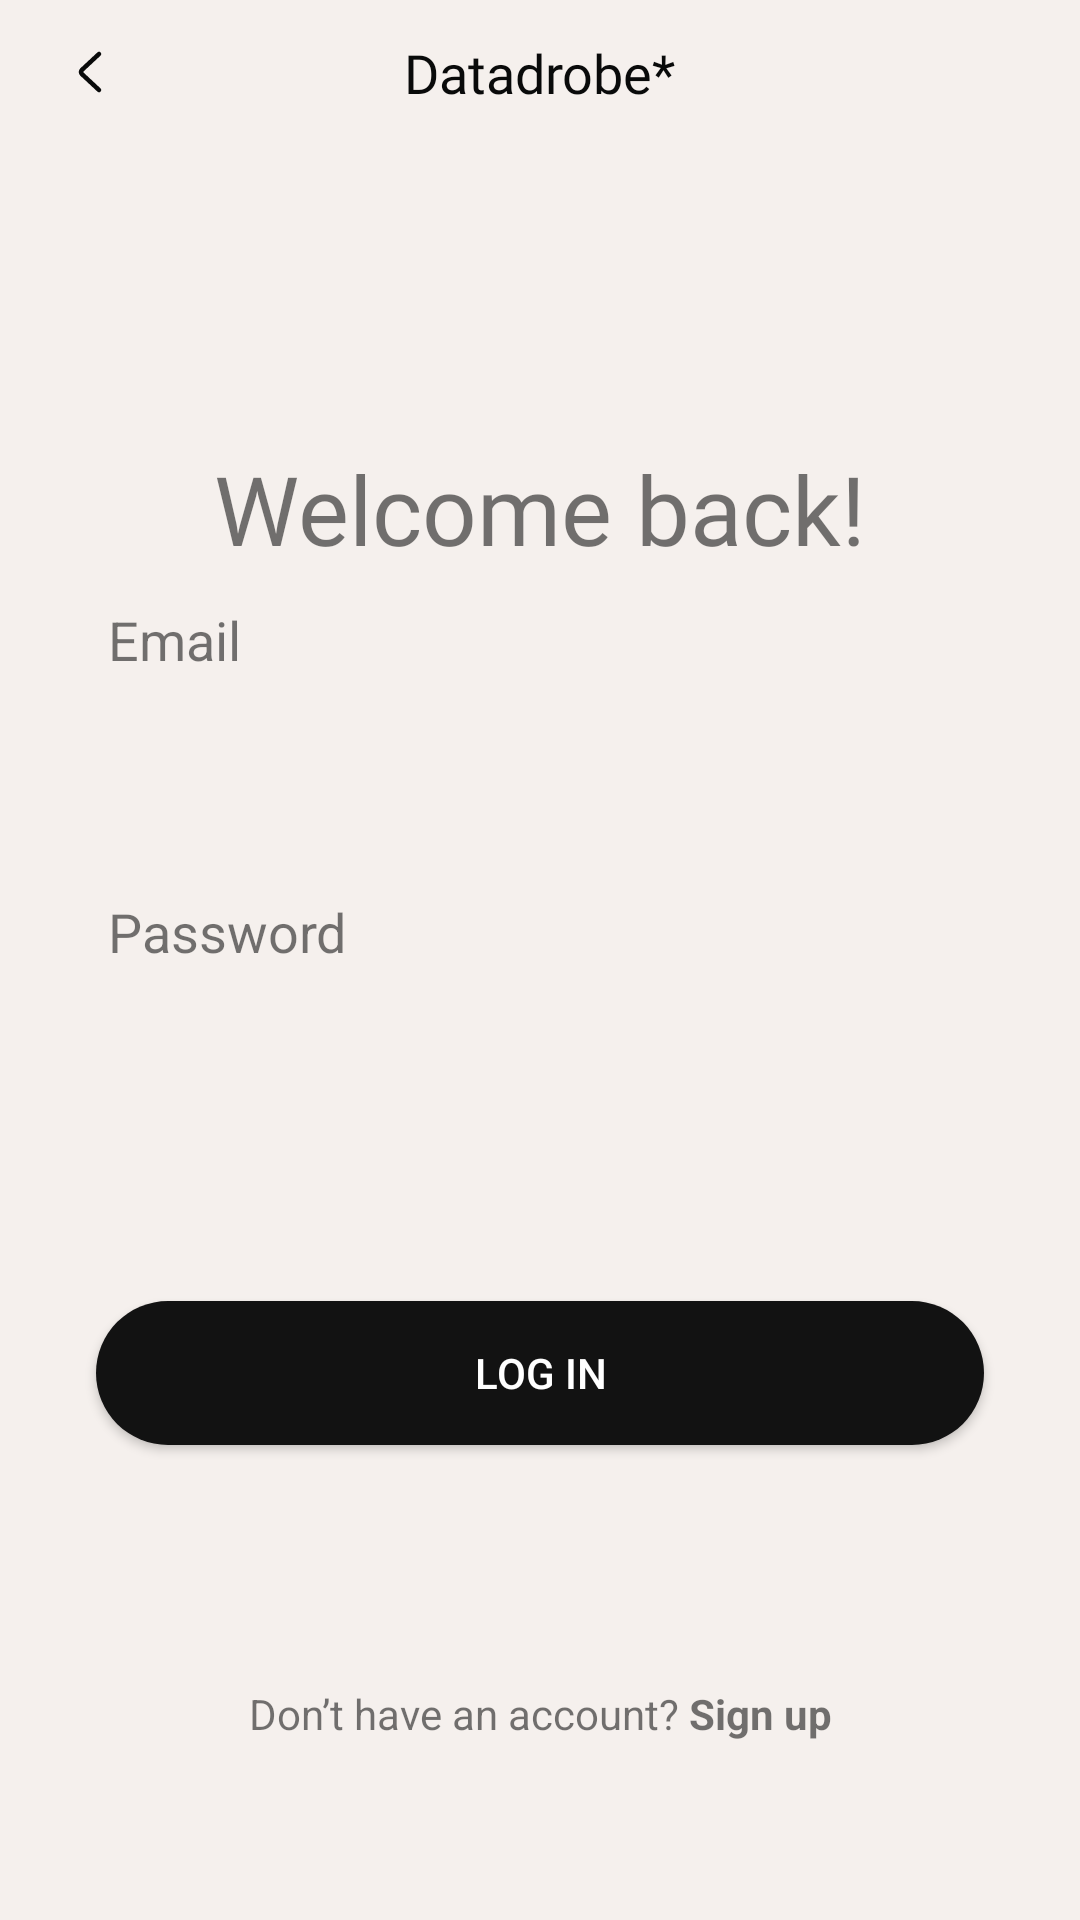

Named icons in this screenshot (1080x1920) and their bounding boxes, (x1, y1, x2, y2):
left actionable: (78, 51, 102, 93)
